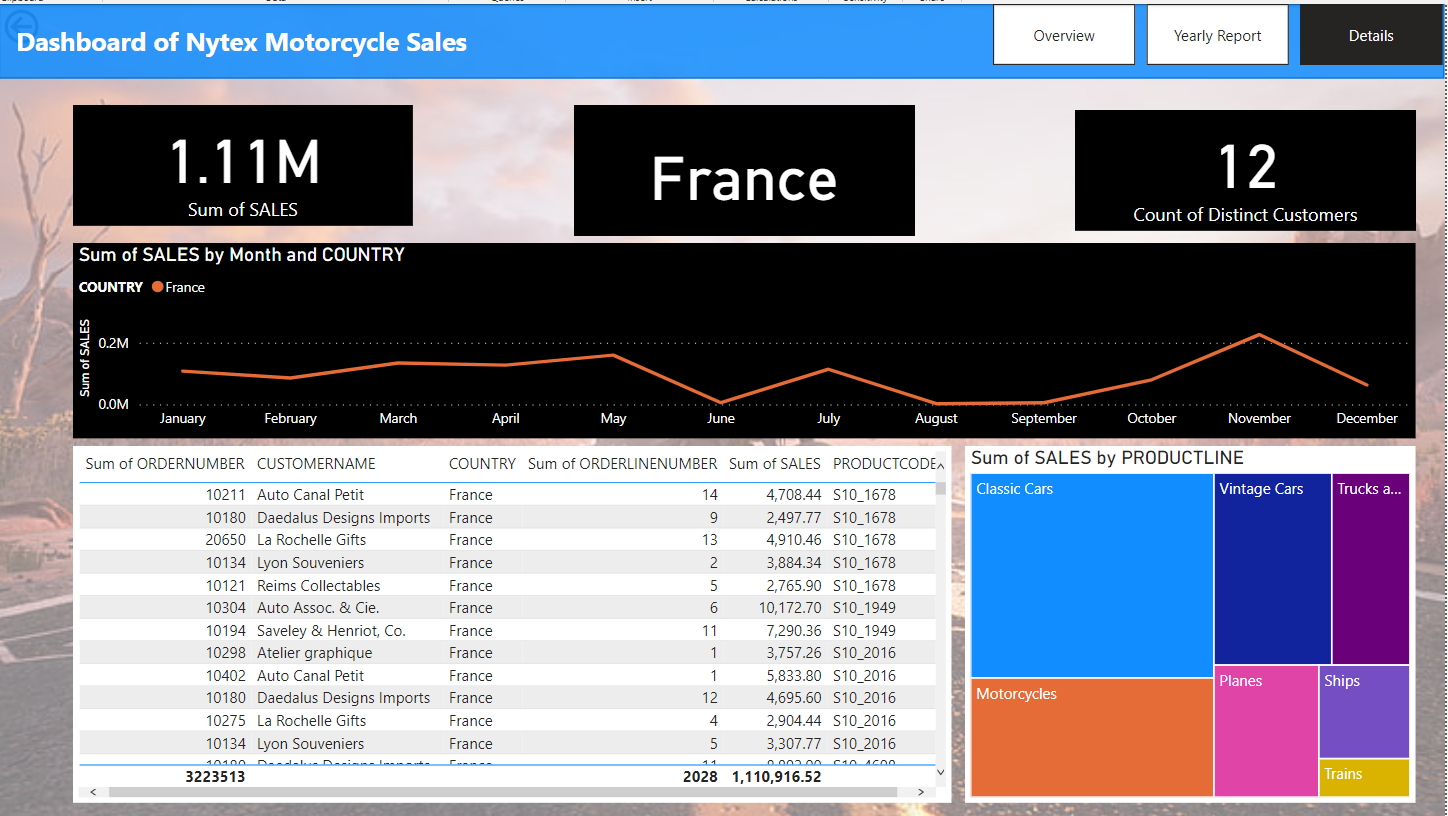

This screenshot's page, from the dashboard's own definition file:
{"tool":"powerbi","page":{"name":"Details","canvas":[1280,720],"ordinal":2},"visuals":[{"type":"tableEx","fields":{"Values":["Sum(sales_data_sample.ORDERNUMBER)","sales_data_sample.CUSTOMERNAME","sales_data_sample.COUNTRY","Sum(sales_data_sample.ORDERLINENUMBER)","Sum(sales_data_sample.SALES)","sales_data_sample.PRODUCTCODE"]},"box":[65.5,391.4,778.5,316.2],"z":0},{"type":"card","fields":{"Values":["Sum(sales_data_sample.SALES)"]},"box":[65.5,89.4,301.1,107.2],"z":3},{"type":"card","fields":{"Values":["sales_data_sample.Count of Distinct Customers"]},"box":[952.9,93.9,302,107.2],"z":4},{"type":"card","fields":{"Values":["sales_data_sample.countryName"]},"box":[509.2,89.4,302,116],"z":5},{"type":"actionButton","box":[0,0,100,40],"z":6},{"type":"lineChart","fields":{"Category":["sales_data_sample.ORDERDATE.Variation.Date Hierarchy.Month"],"Y":["Sum(sales_data_sample.SALES)"],"Series":["sales_data_sample.COUNTRY"]},"box":[65.5,211.7,1189.4,172.7],"z":7},{"type":"shape","title":"Data Analysis for Motorcycle Sales","box":[0,0,1279.7,66.4],"z":8},{"type":"pageNavigator","box":[880.2,0,399.8,54.5],"z":9},{"type":"treemap","fields":{"Values":["Sum(sales_data_sample.SALES)"],"Details":["sales_data_sample.PRODUCTLINE"]},"box":[855.5,391.4,399.4,316.2],"z":10}]}

Visuals, with their boxes on the page's 1280x720 design canvas (x1, y1, x2, y2). These are canvas units, not pixel positions in the 1448x816 screenshot, which may show the page scaled, cropped or inside an application window:
tableEx - Sum(sales_data_sample.ORDERNUMBER) x sales_data_sample.CUSTOMERNAME: region(66, 391, 844, 708)
card - Sum(sales_data_sample.SALES): region(66, 89, 367, 197)
card - sales_data_sample.Count of Distinct Customers: region(953, 94, 1255, 201)
card - sales_data_sample.countryName: region(509, 89, 811, 205)
actionButton: region(0, 0, 100, 40)
lineChart - sales_data_sample.ORDERDATE.Variation.Date Hierarchy.Month x Sum(sales_data_sample.SALES): region(66, 212, 1255, 384)
"Data Analysis for Motorcycle Sales" shape: region(0, 0, 1280, 66)
pageNavigator: region(880, 0, 1280, 54)
treemap - Sum(sales_data_sample.SALES) x sales_data_sample.PRODUCTLINE: region(856, 391, 1255, 708)
